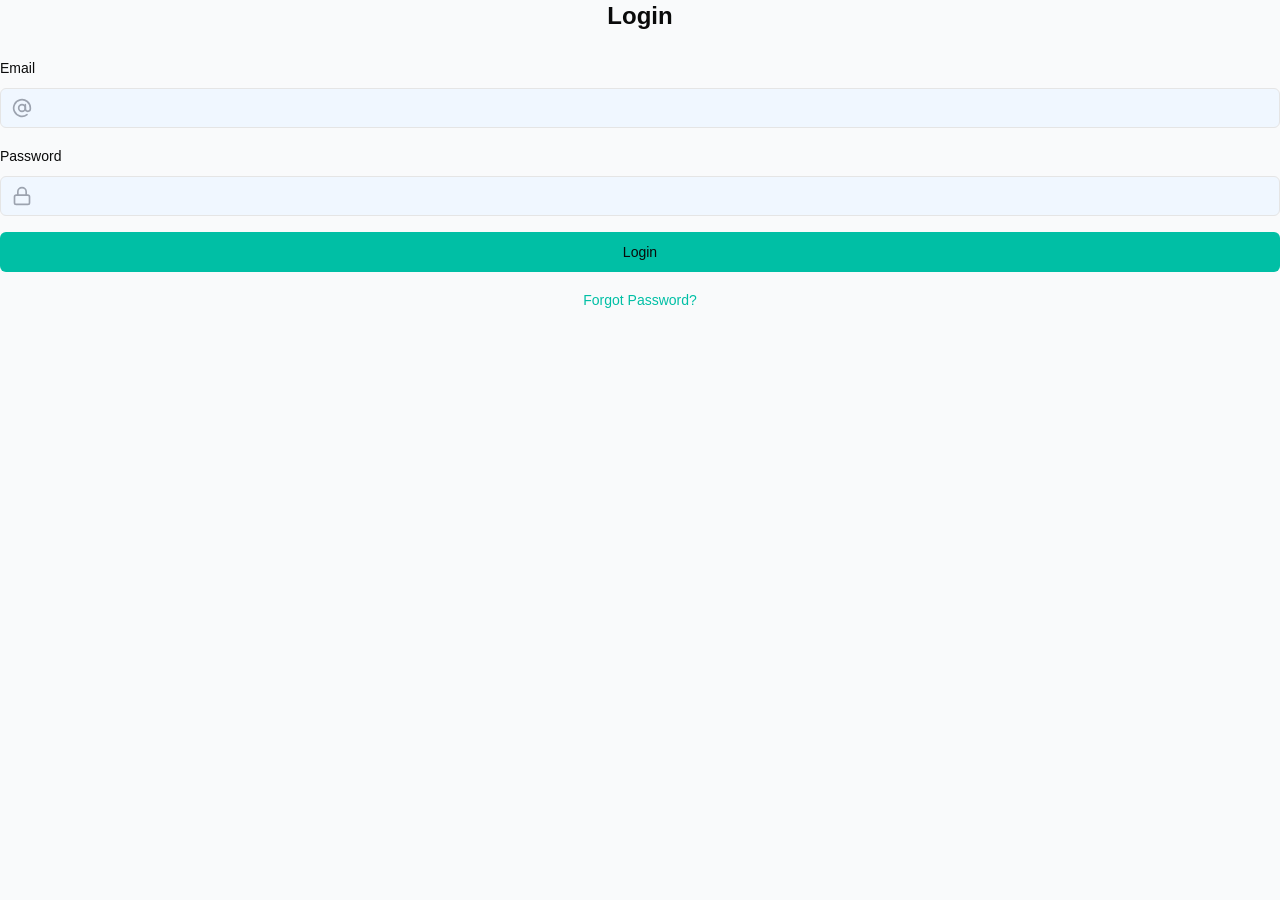
Test: LoginForm › Forgot Password Dialog › pre-fills forgot email from login form
The width and height of the screenshot is (1280, 900).
Type "test@email.com" into the field labelled "Email" at (640, 108), box [0,88,1279,128]
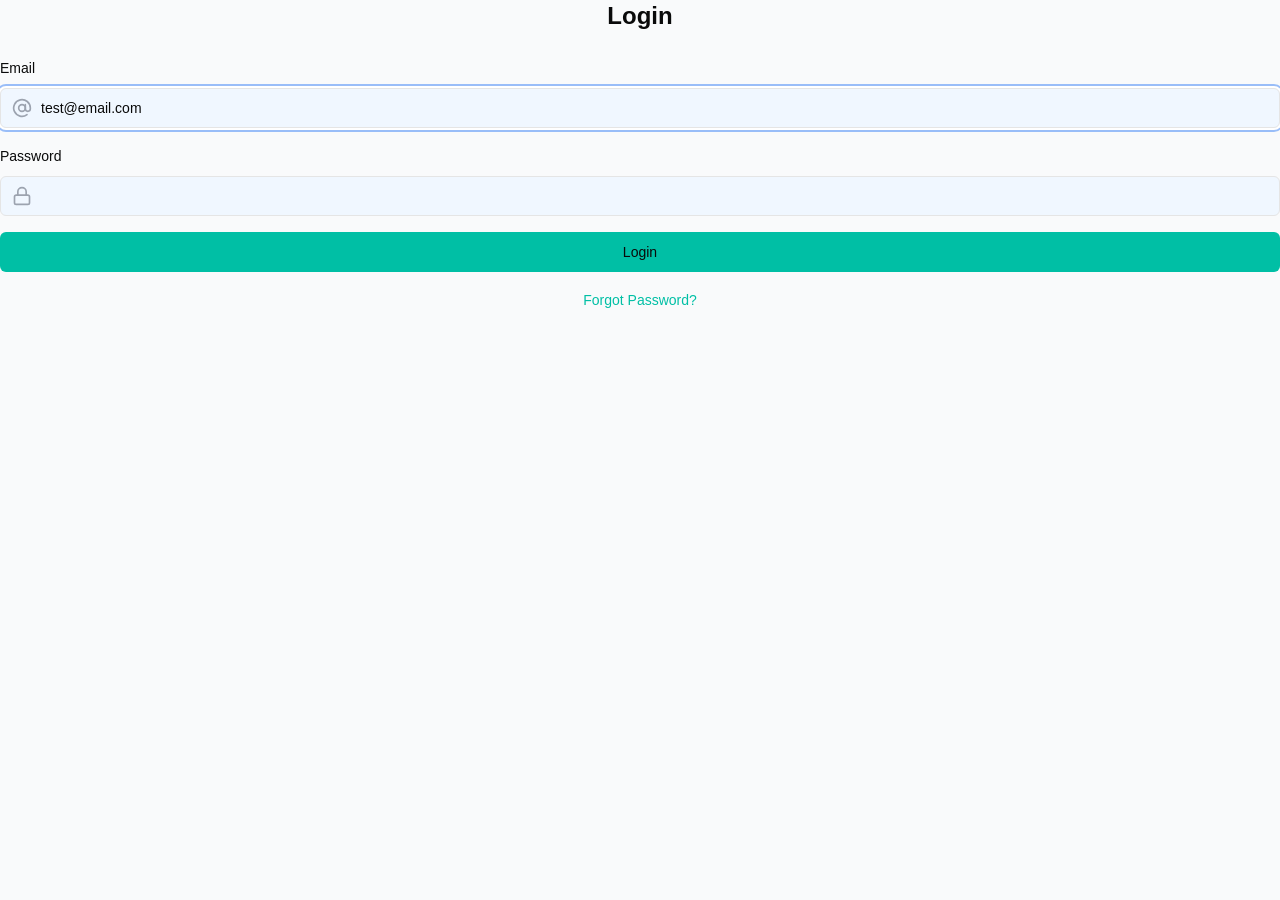
Click the button "Forgot Password?" at (640, 300), box [583,290,697,310]
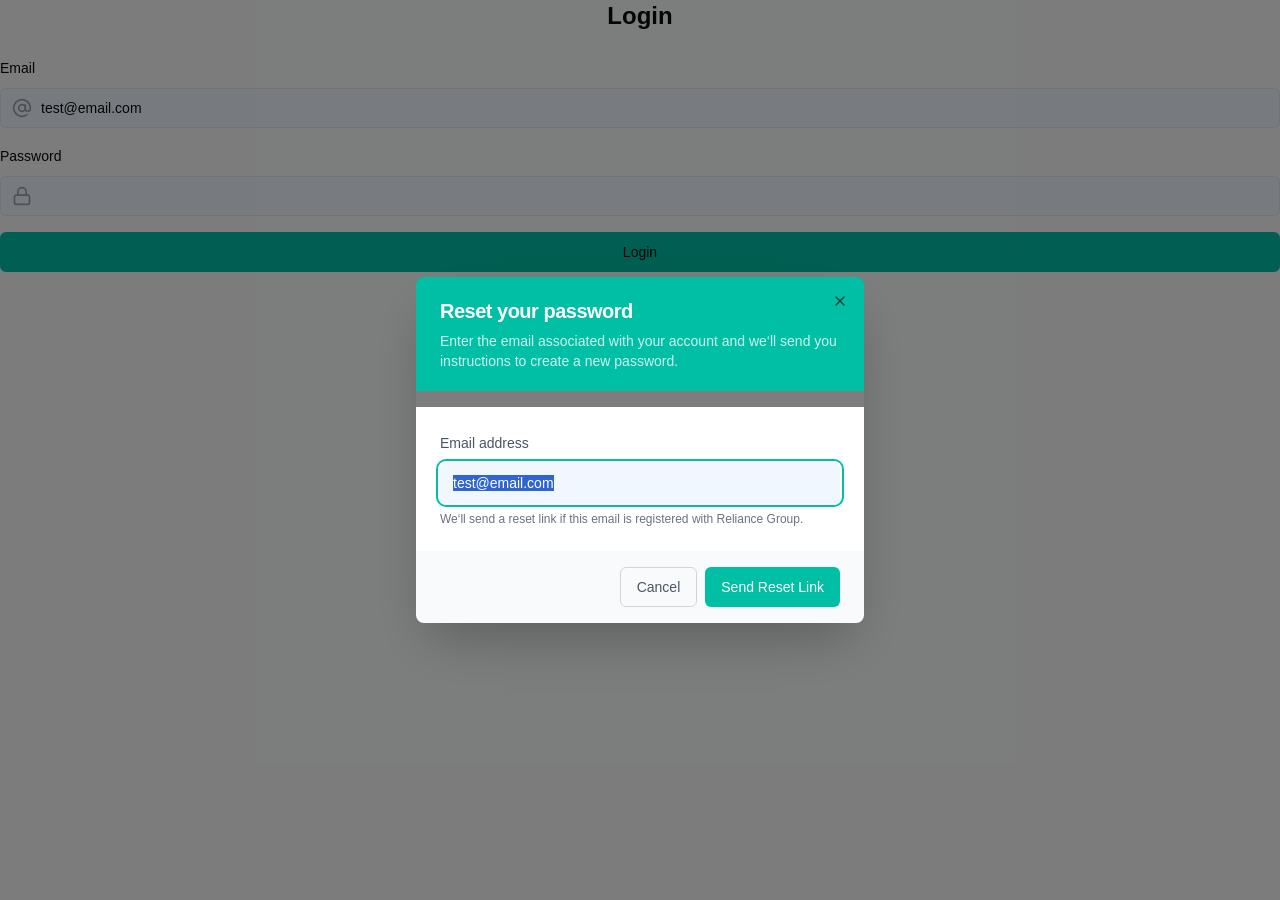
Check: the field with placeholder "you@example.com" holds "test@email.com", box [440,463,840,503]
